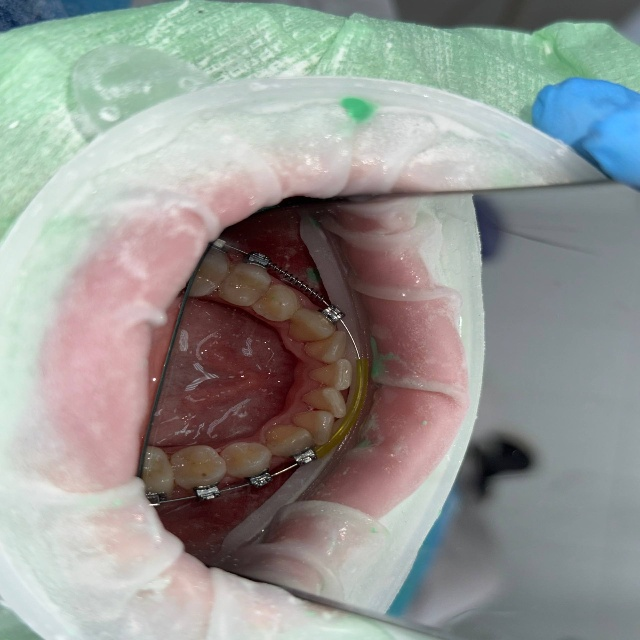clean_tooth: (469, 505, 575, 587), (262, 509, 329, 591), (299, 144, 420, 171), (422, 168, 490, 193), (181, 148, 218, 175)
plaque: (0, 79, 105, 191), (506, 0, 639, 31), (179, 492, 211, 568), (140, 196, 165, 260)
